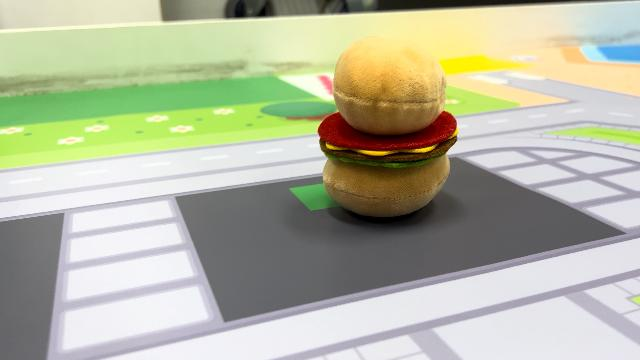burger: (314, 34, 462, 221)
